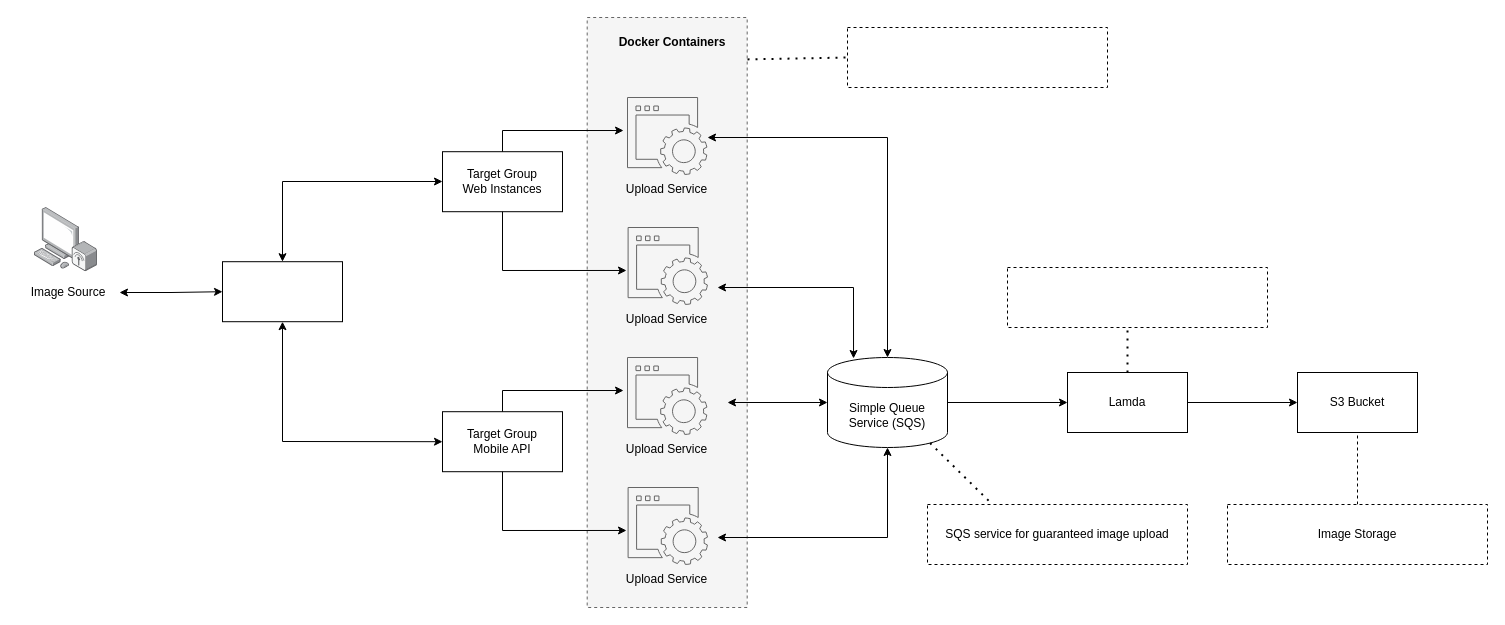
The diagram is 1505 pixels wide and 625 high, and some of its shapes have lost their labels. Each missing label, with the centre of its shape:
Highly scalable image upload service: pixel 977 57
Load Balancer: pixel 282 291
SQS Consumer with Image Optimization, Cropping and Watermark service: pixel 1137 297
